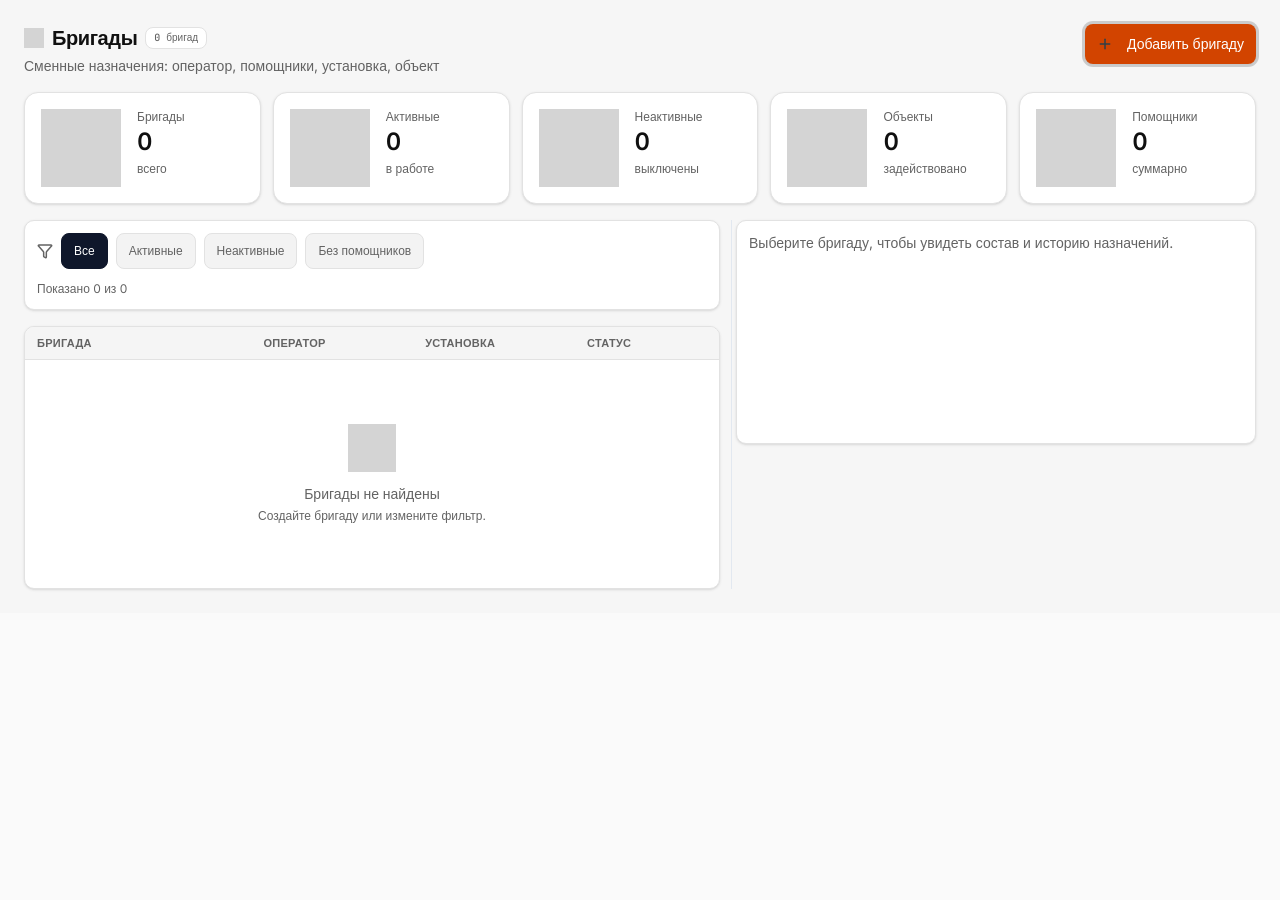
возвращает фокус на кнопку открытия после Escape в настоящем диалоге
Click the button "Добавить бригаду".
click(1170, 44)  # box [1085,24,1256,64]
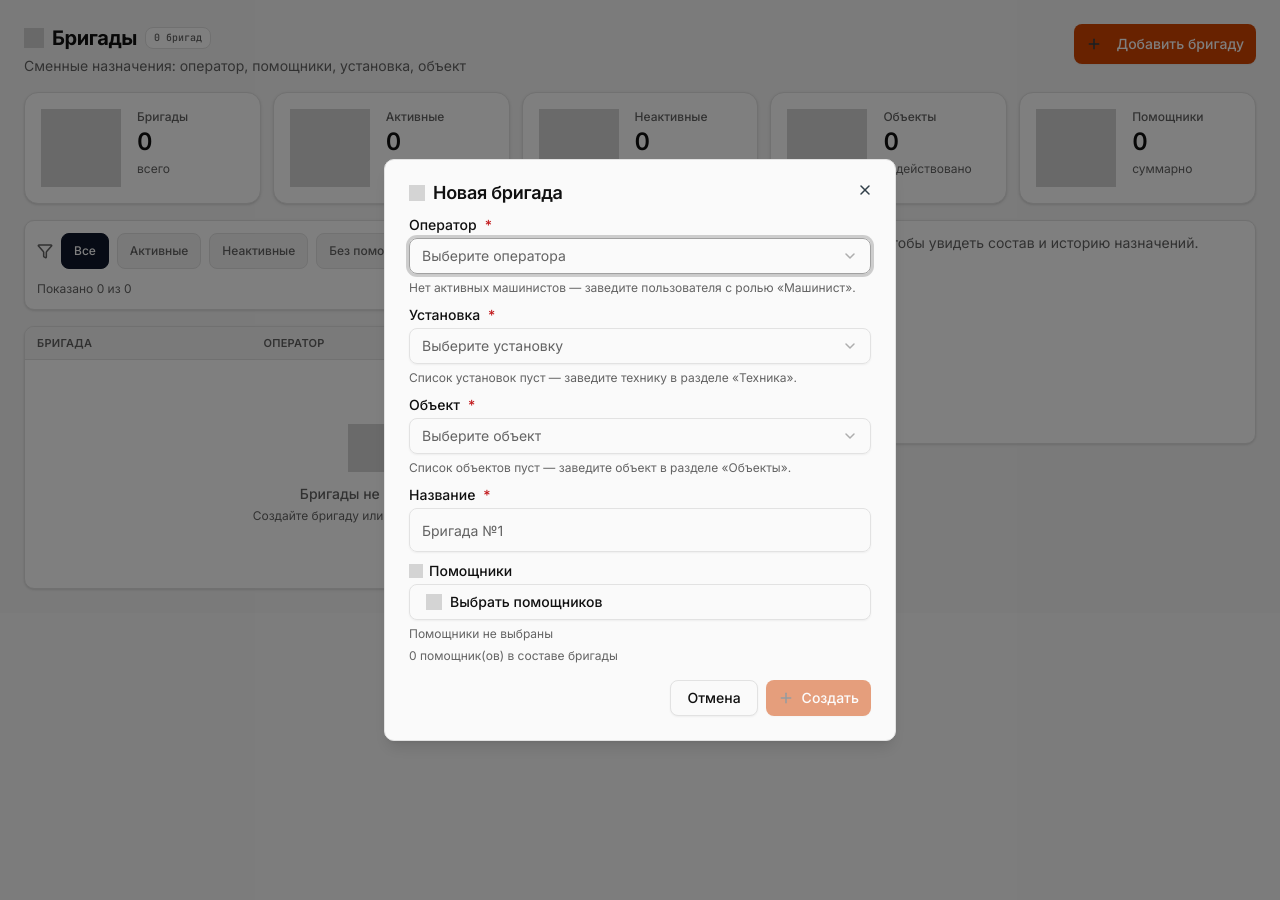
Press Escape in the dialog "Новая бригада", box [384,159,896,741]
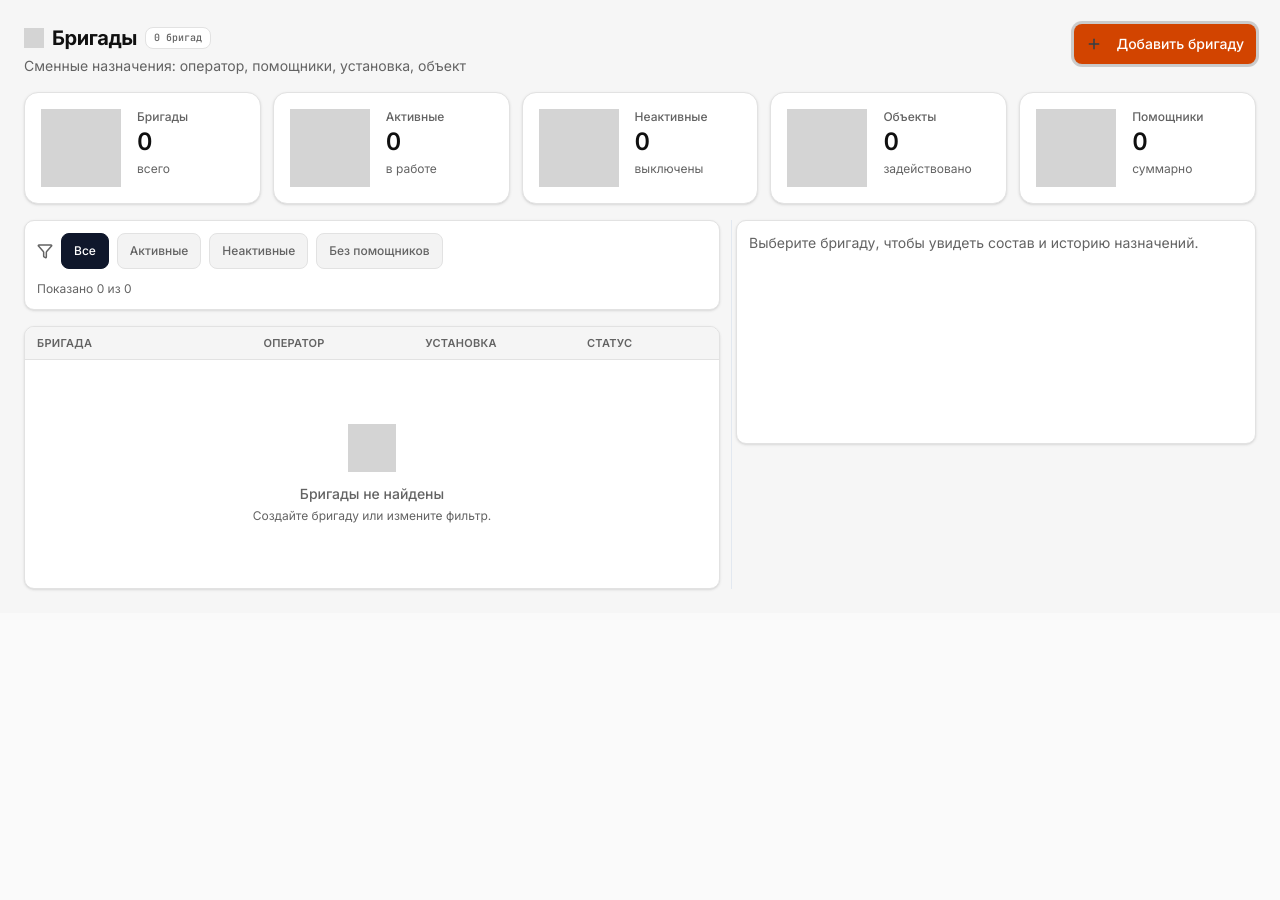
expect the dialog is gone: met
